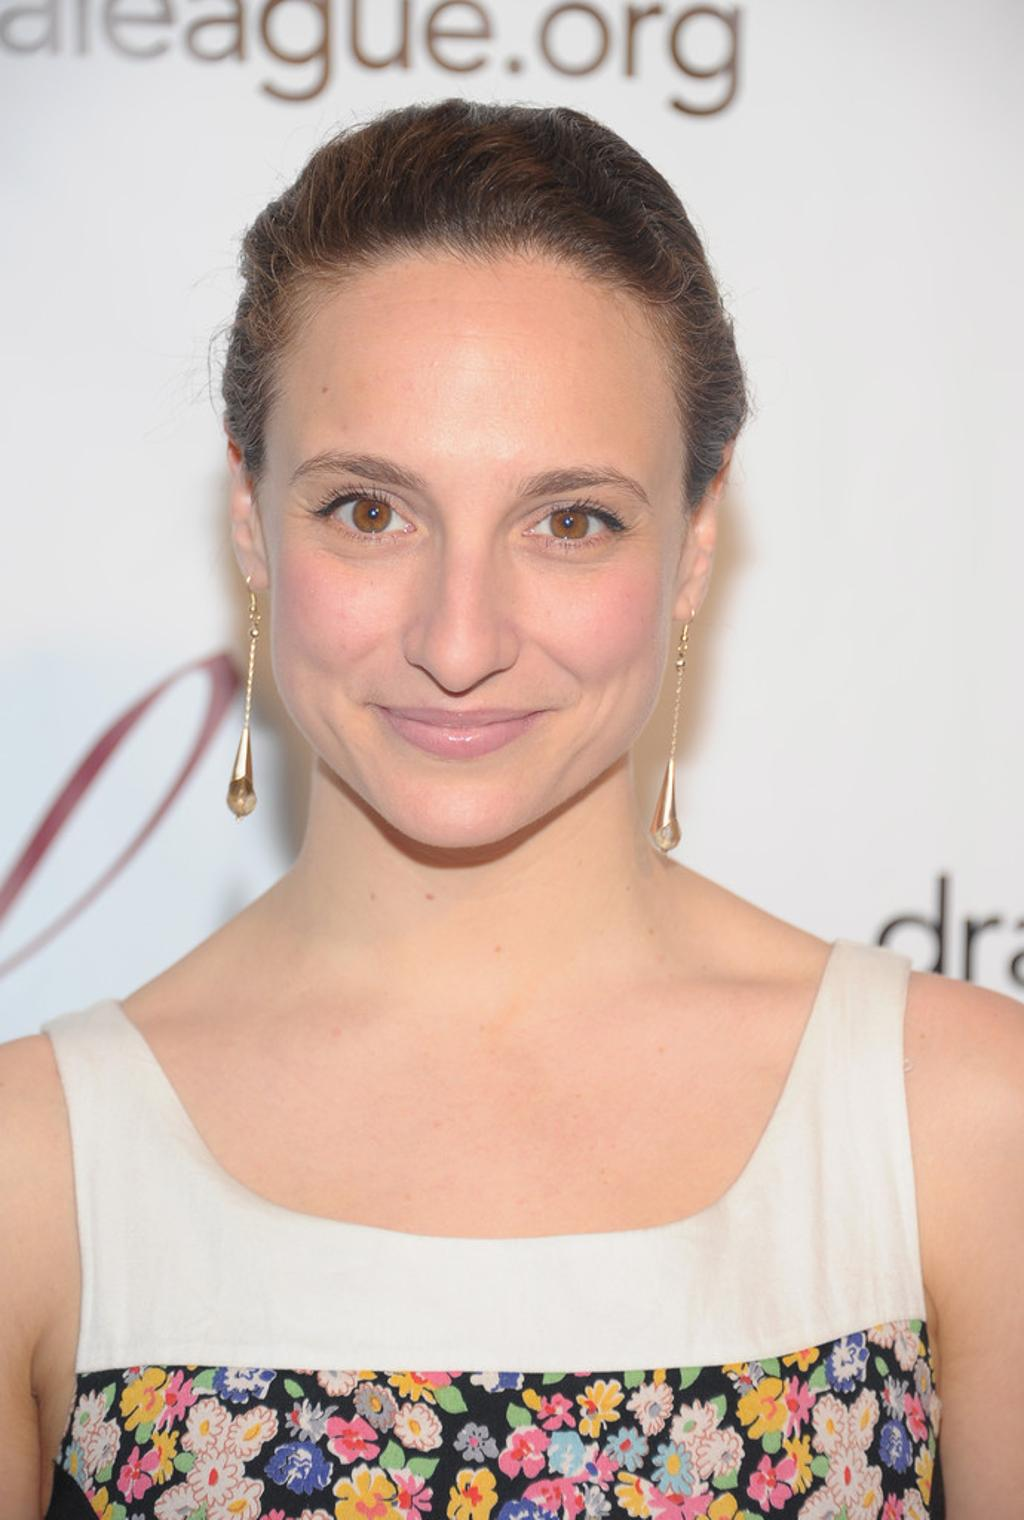face: (258, 223, 685, 852)
